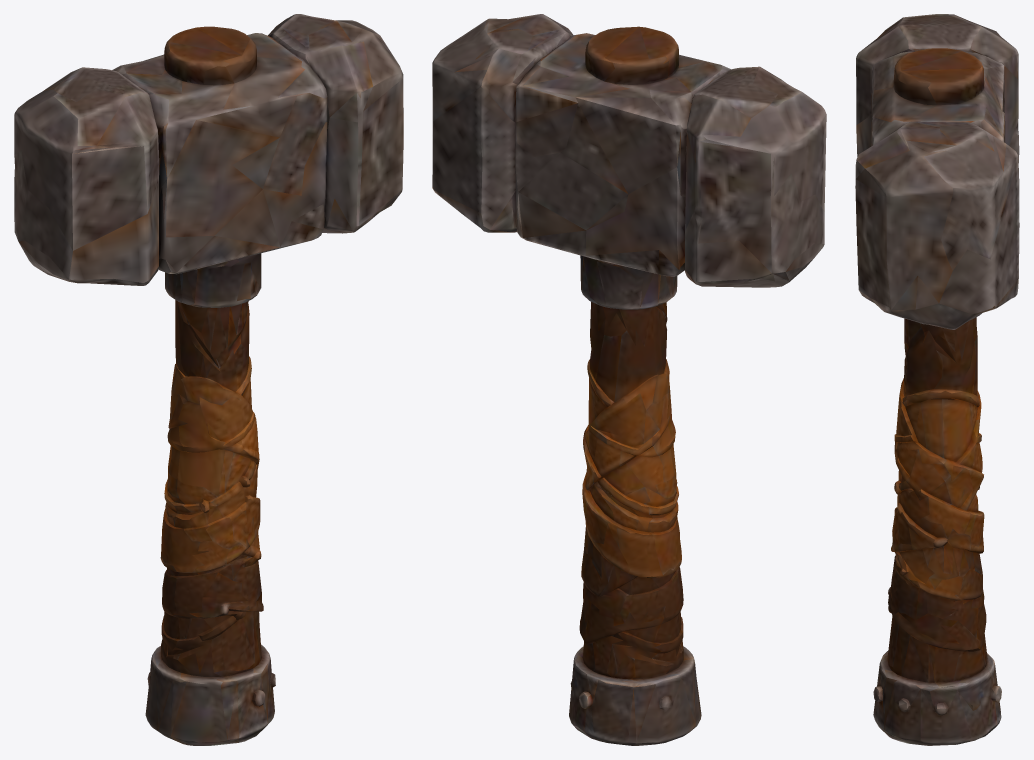
Rendered from hammer.glb.
The picture shows the model from 3 angles, left to right: view 1: azimuth 30°, elevation 25°; view 2: azimuth 150°, elevation 25°; view 3: azimuth 270°, elevation 25°; orthographic projection. The views are drawn at different scales.
Visible parts, largest first — view 1: Mesh_0; view 2: Mesh_0; view 3: Mesh_0.
Part boxes in pixels (x1,y1,x2,y2): Mesh_0: (14,14,403,745); Mesh_0: (432,14,826,745); Mesh_0: (855,14,1019,745).
Bounding box in the file's own units: 1.04 × 1.9 × 0.4254.
1 material, 1 textured.
